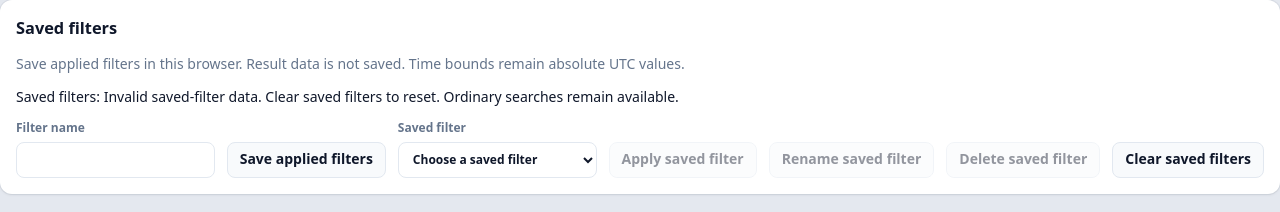
Test: recovers corrupt preferences through explicit clear and keeps list kinds separate
Expected: the message shows "Ordinary searches remain available", [440,87,679,106]
Click the button "Clear saved filters" at (1188, 160), box [1112,142,1264,178]
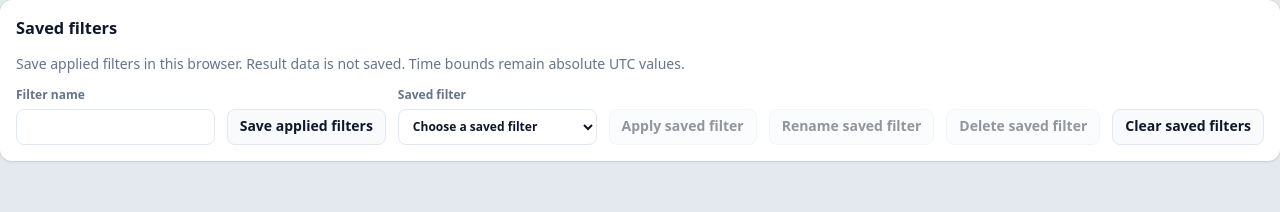
Expected: the message is gone
